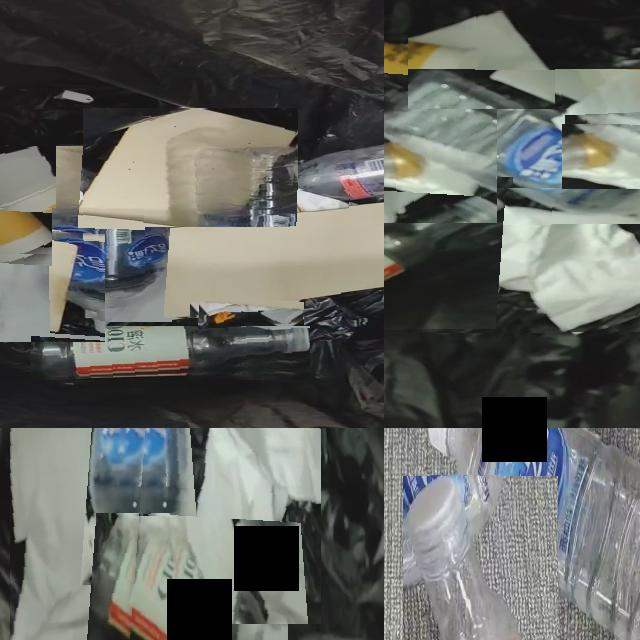bottle: (430, 428, 640, 640), (384, 70, 640, 210), (49, 148, 170, 322), (405, 476, 519, 640), (114, 516, 241, 640), (32, 326, 310, 378), (384, 189, 505, 288), (112, 428, 184, 586), (283, 145, 384, 200)
carton: (145, 204, 384, 318), (83, 109, 297, 227)
dixie_cup: (384, 42, 479, 98), (0, 182, 52, 254)
paper: (384, 188, 640, 333), (169, 428, 321, 624), (13, 428, 136, 640), (384, 82, 497, 221), (408, 12, 555, 109), (0, 228, 105, 342), (0, 229, 105, 342), (562, 125, 640, 189), (0, 148, 56, 208), (199, 302, 304, 325), (293, 190, 349, 212), (319, 201, 338, 206)
